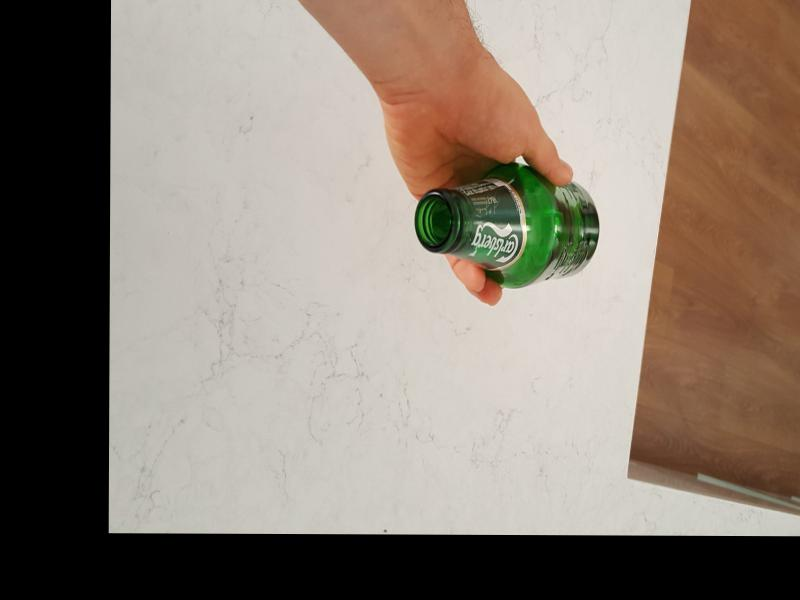Beer: (414, 164, 600, 287)
